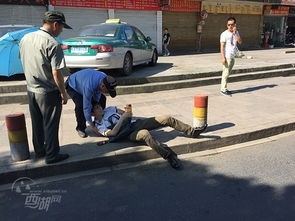falling: (80, 95, 209, 170)
